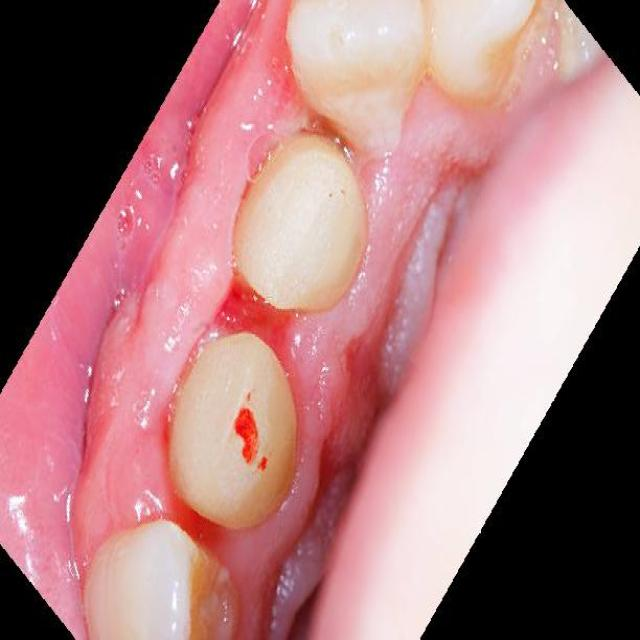caries: (230, 388, 284, 484)
